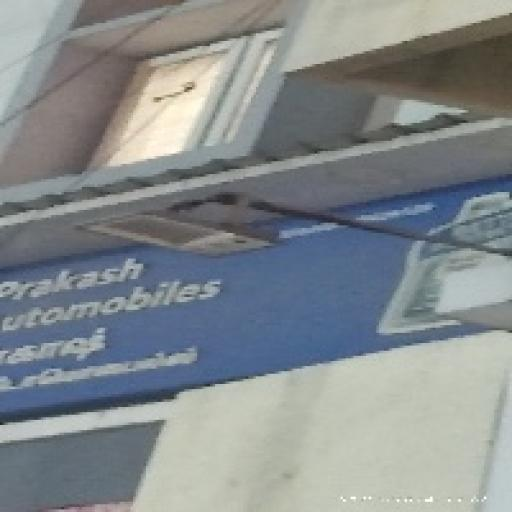Not Working: (64, 189, 282, 276)
